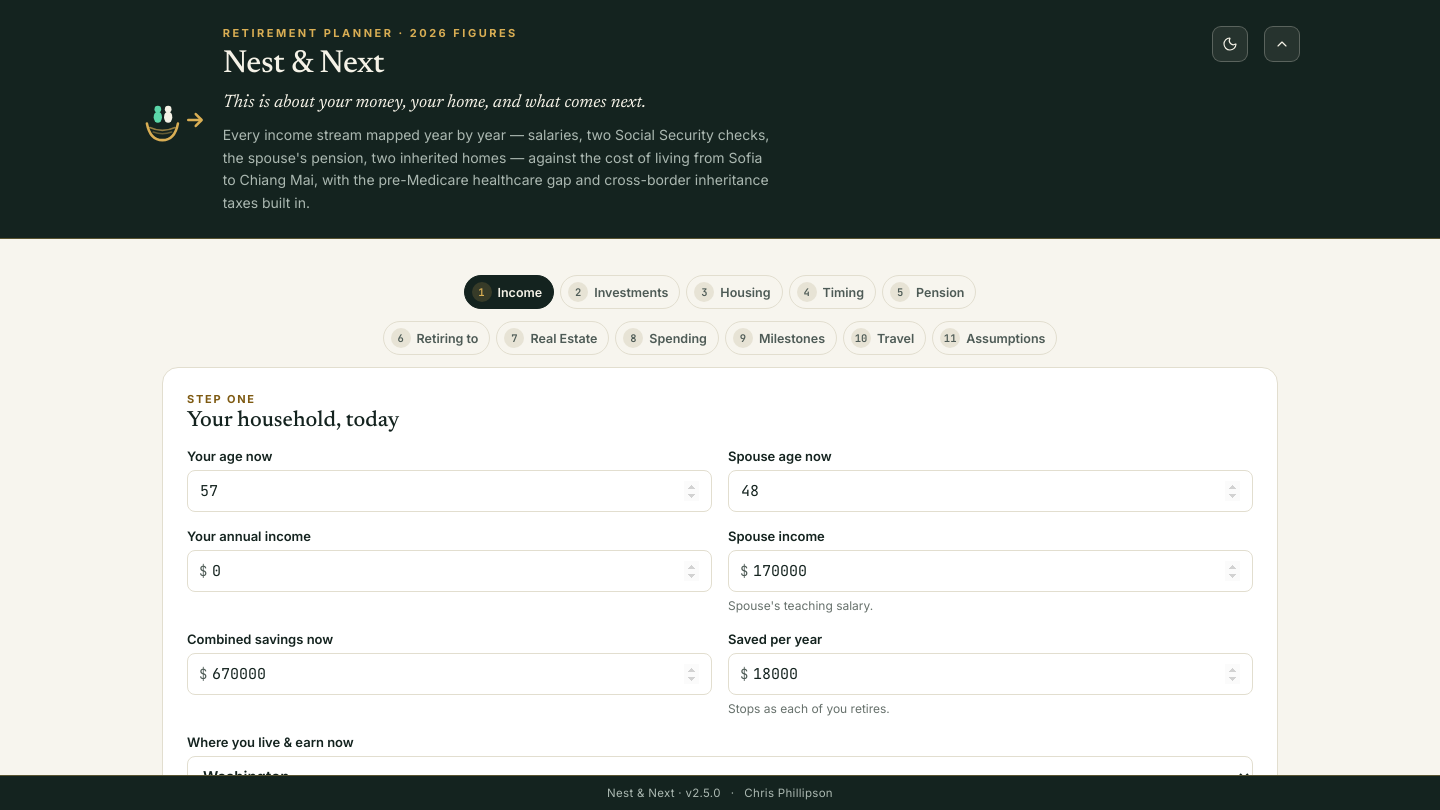
Test: RetirementCalculator UI › collapses and expands the header via its toggle button
Expected: the text "This is about your money, your home, and what comes next." is shown, 223,94 -> 646,112
Click the button named "collapse header" at coordinates (1282, 44), box 1264,26 -> 1300,62
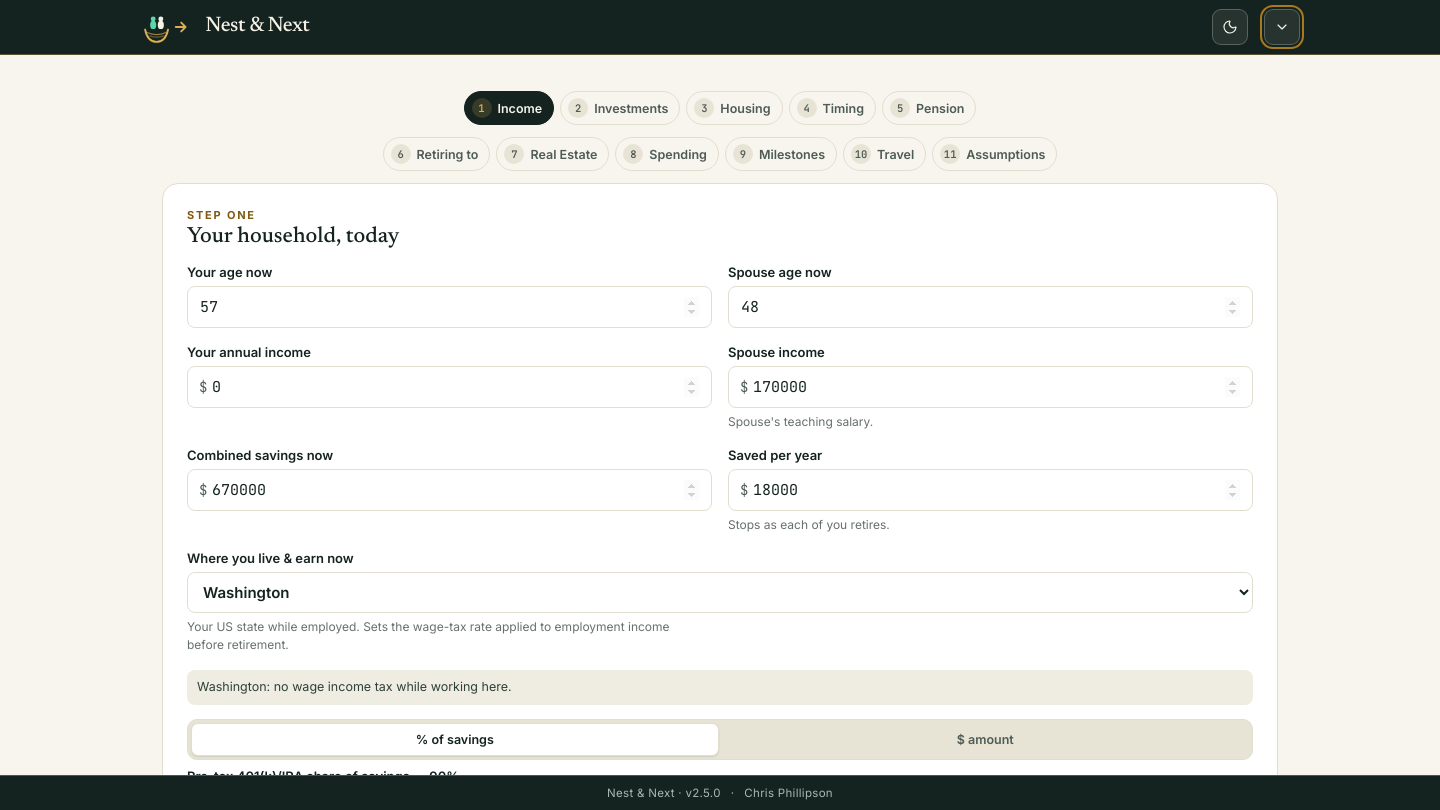
Expected: the text "This is about your money, your home, and what comes next." is gone
Expected: the button named "expand header" is collapsed
Click the button named "expand header" at coordinates (1282, 27), box 1264,9 -> 1300,45
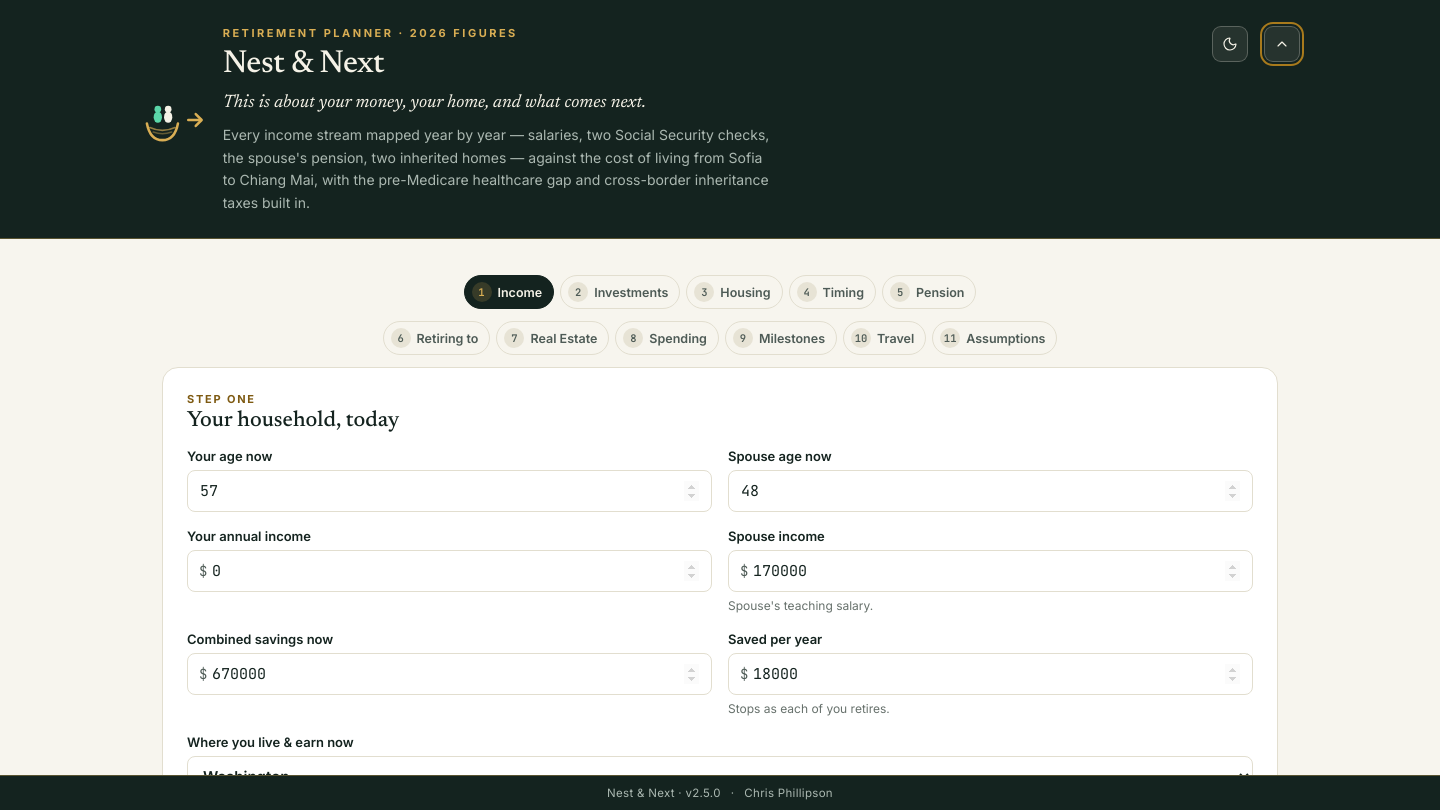
Expected: the text "This is about your money, your home, and what comes next." is shown, 223,94 -> 646,112
